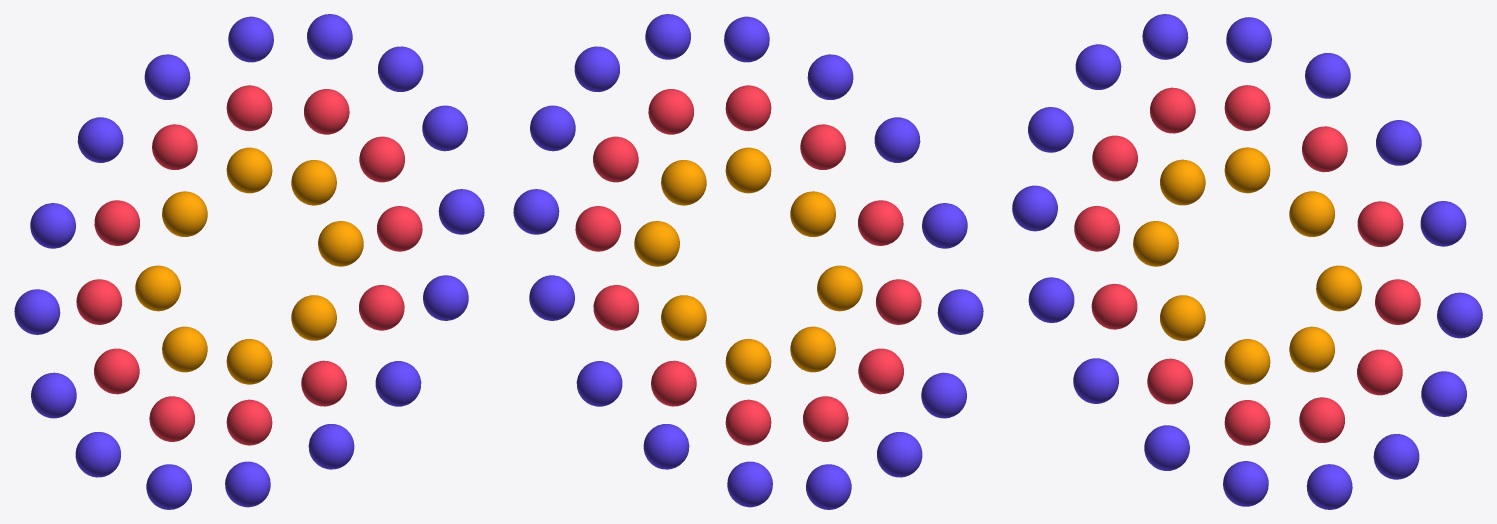
Rendered from rotating-dots-loading-animated-3d-icon-642618930080.glb.
The picture shows the model from 3 angles, left to right: view 1: azimuth 30°, elevation 25°; view 2: azimuth 150°, elevation 25°; view 3: azimuth 330°, elevation 25°; orthographic projection.
Parts seen in each view (by area): view 1: Dots 3, Dots 2, Dots 1; view 2: Dots 3, Dots 2, Dots 1; view 3: Dots 3, Dots 2, Dots 1.
Boxes of the visible parts, x1,y1,x2,y2 form: Dots 3: (14, 14, 484, 509); Dots 2: (76, 85, 422, 445); Dots 1: (135, 147, 363, 384); Dots 3: (513, 14, 983, 509); Dots 2: (575, 85, 921, 445); Dots 1: (634, 147, 862, 384); Dots 3: (1012, 14, 1482, 509); Dots 2: (1074, 85, 1420, 445); Dots 1: (1133, 147, 1361, 384).
Size of the model in its own units: 2.09 by 2.09 by 0.1786.
